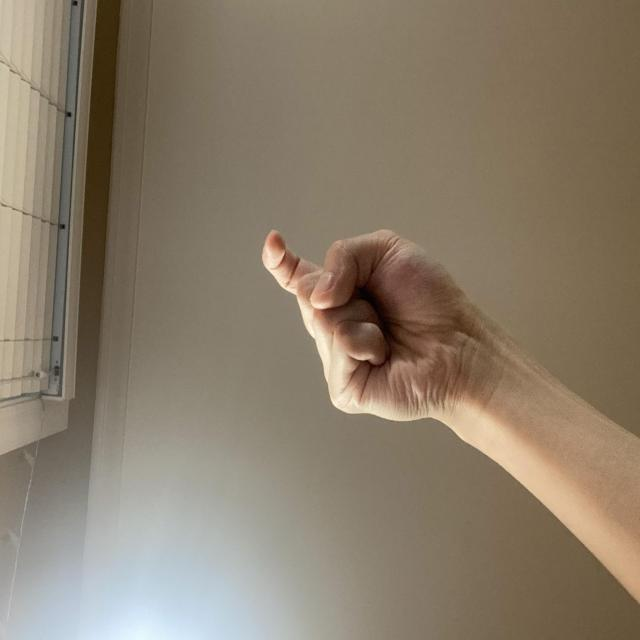X: (154, 340, 317, 640)
